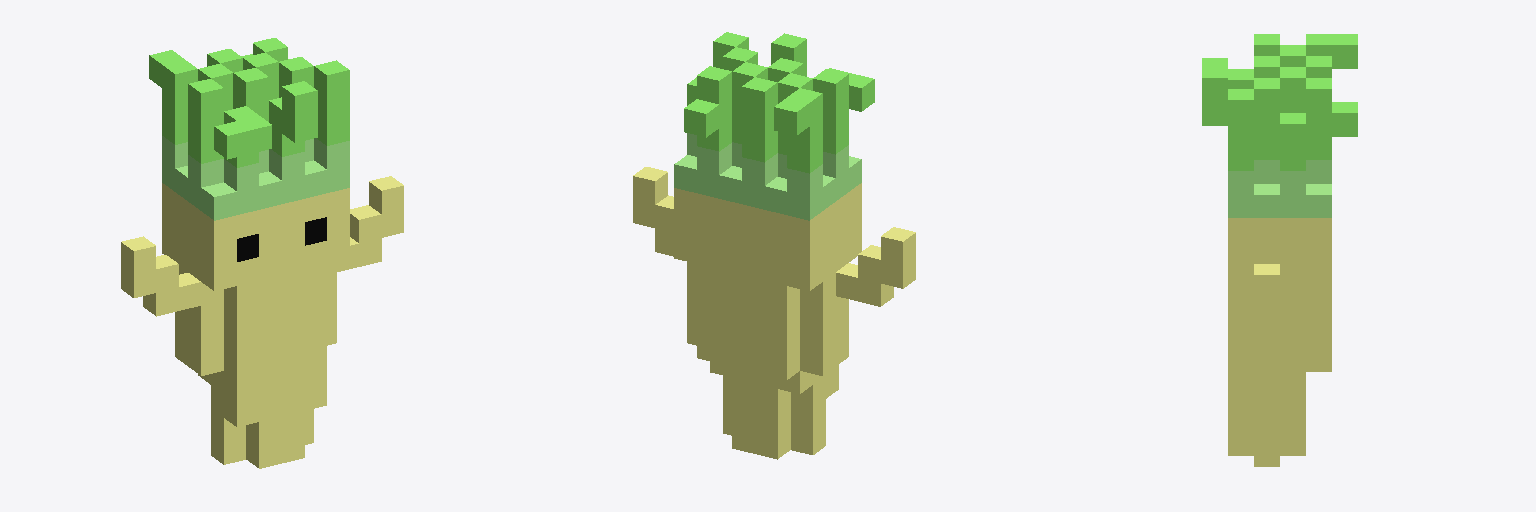
3 views of the same model, side by side, from view 1: azimuth 30°, elevation 25°; view 2: azimuth 150°, elevation 25°; view 3: azimuth 270°, elevation 25° (orthographic).
Bounding box in the file's own units: 12 × 16 × 6.
Materials: 1 (1 with a texture image).